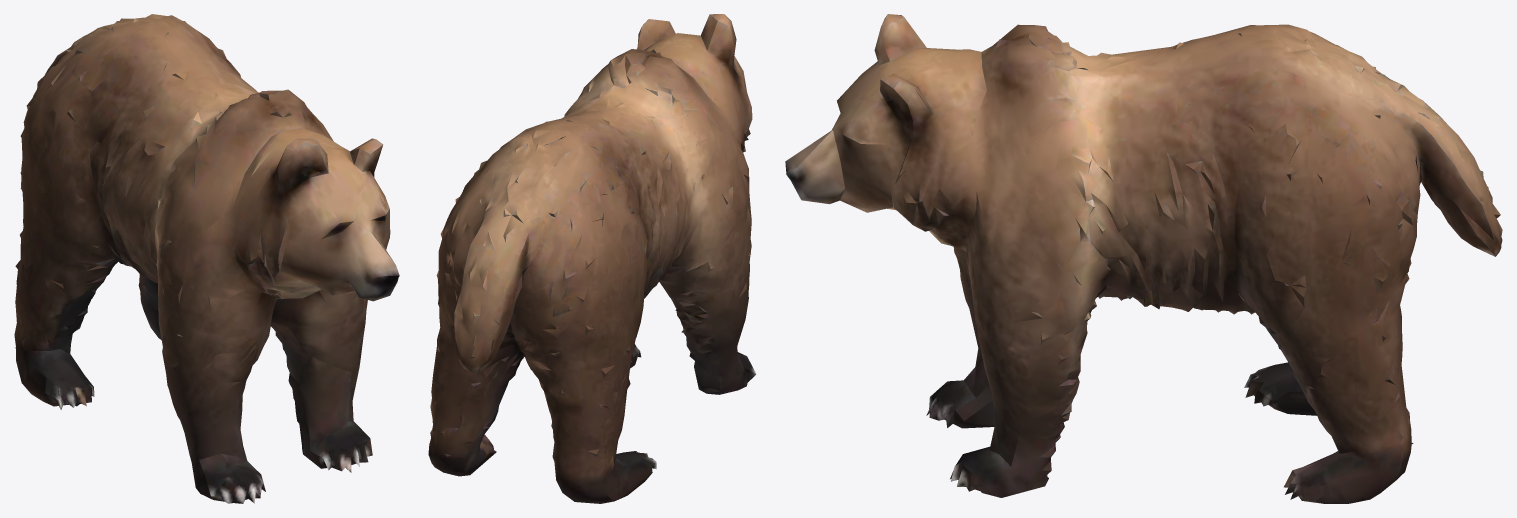
Rendered from bear-brown.phone.glb.
The picture shows the model from 3 angles, left to right: view 1: azimuth 30°, elevation 25°; view 2: azimuth 150°, elevation 25°; view 3: azimuth 270°, elevation 25°; orthographic projection. The views are drawn at different scales.
Visible parts, largest first — view 1: bear-brown; view 2: bear-brown; view 3: bear-brown.
Part boxes in pixels (<box>): bear-brown: <box>14,14,399,503</box>; bear-brown: <box>428,14,756,503</box>; bear-brown: <box>785,14,1502,503</box>.
Size of the model in its own units: 0.8812 by 1.5 by 2.27.
Materials: 1 (1 with a texture image).
